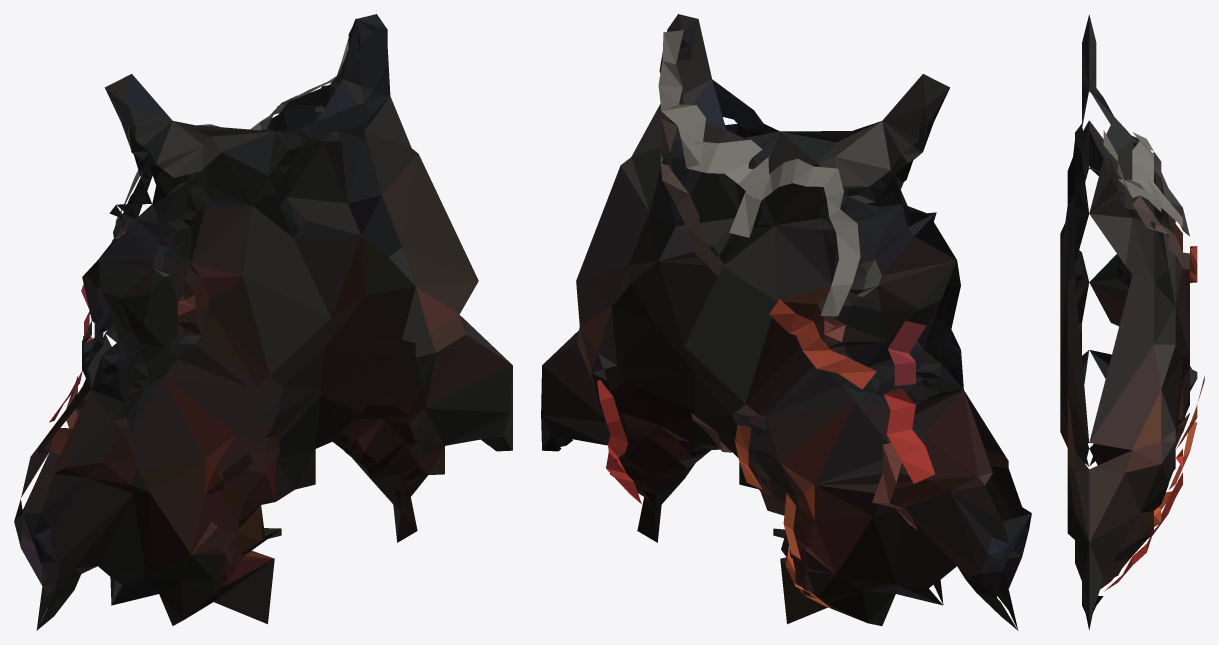
Rendered from B13_5_obsidian_cape.obj.
The picture shows the model from 3 angles, left to right: view 1: azimuth 30°, elevation 25°; view 2: azimuth 150°, elevation 25°; view 3: azimuth 270°, elevation 25°; orthographic projection. The views are drawn at different scales.
Visible parts, largest first — view 1: B13_5_obsidian_cape; view 2: B13_5_obsidian_cape; view 3: B13_5_obsidian_cape.
Part boxes in pixels (x1,y1,x2,y2): B13_5_obsidian_cape: (14, 14, 512, 630); B13_5_obsidian_cape: (541, 14, 1031, 630); B13_5_obsidian_cape: (1060, 14, 1204, 630).
Bounding box in the file's own units: 72 × 82 × 20.
